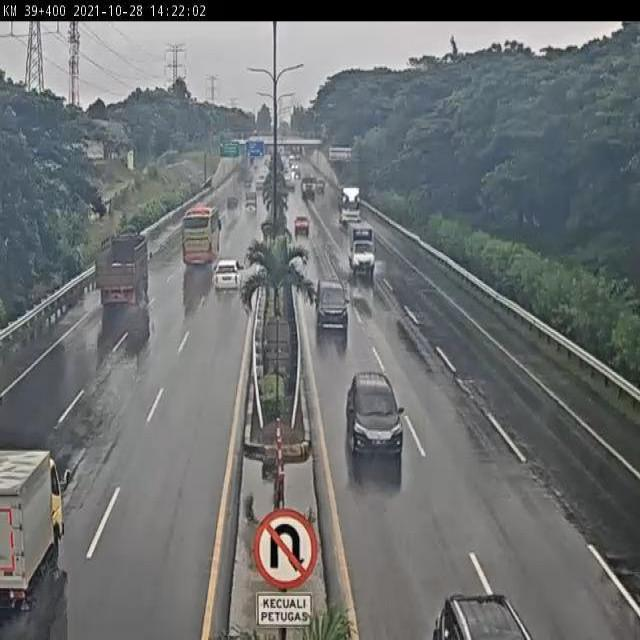big bus: (181, 201, 223, 267)
car: (346, 371, 407, 460), (313, 277, 349, 335), (210, 259, 244, 296), (293, 214, 311, 238)
truck-l-: (93, 235, 151, 309)
truck-s-: (0, 445, 61, 612), (347, 222, 377, 274)
